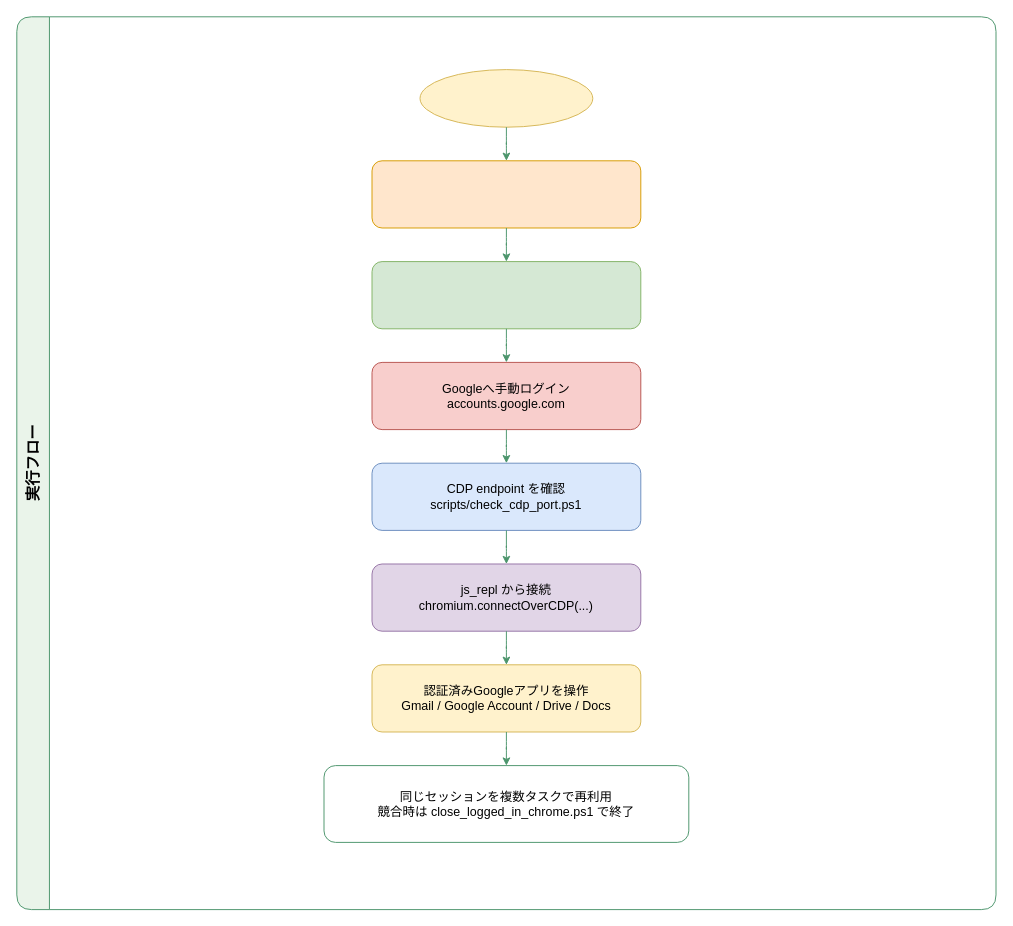
Some shapes in this 1013 by 926 pixel diagram are drawn without their labels. Here are the shapes that lost their labels. From the top down, the centre of each, then its label:
the point at 506,98: ユーザー フロー開始
the point at 506,194: 専用Chromeを起動 scripts/launch_logged_in_chrome.ps1
the point at 506,295: 通常のGoogle Chromeウィンドウ 専用user-data-dir と CDP port
